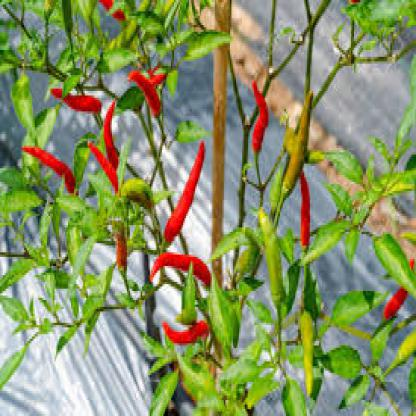Green Chilli: (256, 211, 289, 307), (301, 300, 324, 393), (394, 332, 414, 366)
